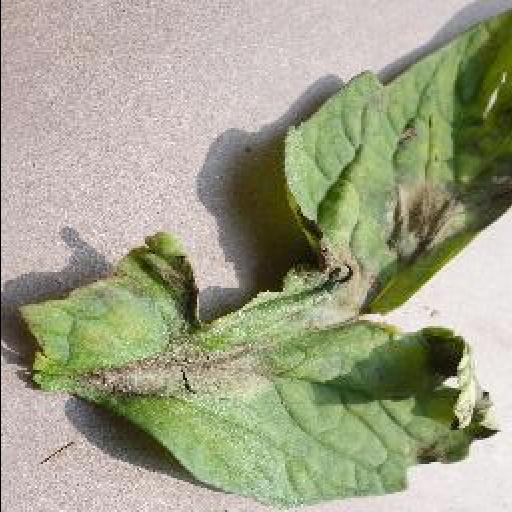disease_tomato: (20, 7, 512, 509)
